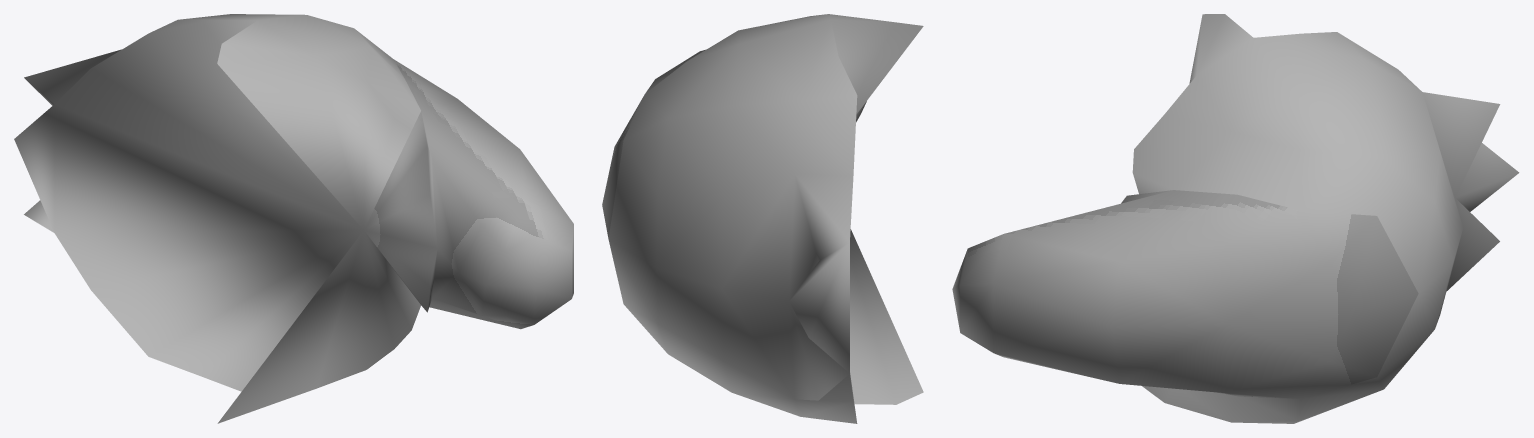
Rendered from hlmt_wig_regent.dae.
The picture shows the model from 3 angles, left to right: view 1: azimuth 30°, elevation 25°; view 2: azimuth 150°, elevation 25°; view 3: azimuth 270°, elevation 25°; orthographic projection.
Visible parts, largest first — view 1: hlmt_wig_regent; view 2: hlmt_wig_regent; view 3: hlmt_wig_regent.
Part boxes in pixels (x1,y1,x2,y2): hlmt_wig_regent: [14, 14, 573, 423]; hlmt_wig_regent: [602, 14, 923, 423]; hlmt_wig_regent: [952, 14, 1519, 423].
Bounding box in the file's own units: 19.99 × 22.84 × 31.03.
1 material, 1 textured.
